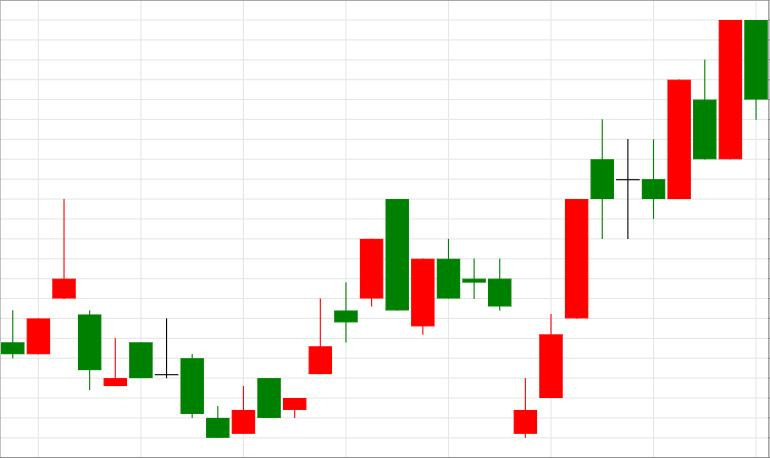bearish_engulfing_fall: (232, 200, 408, 434)
three_white_soldiers_rise: (386, 199, 588, 439)
